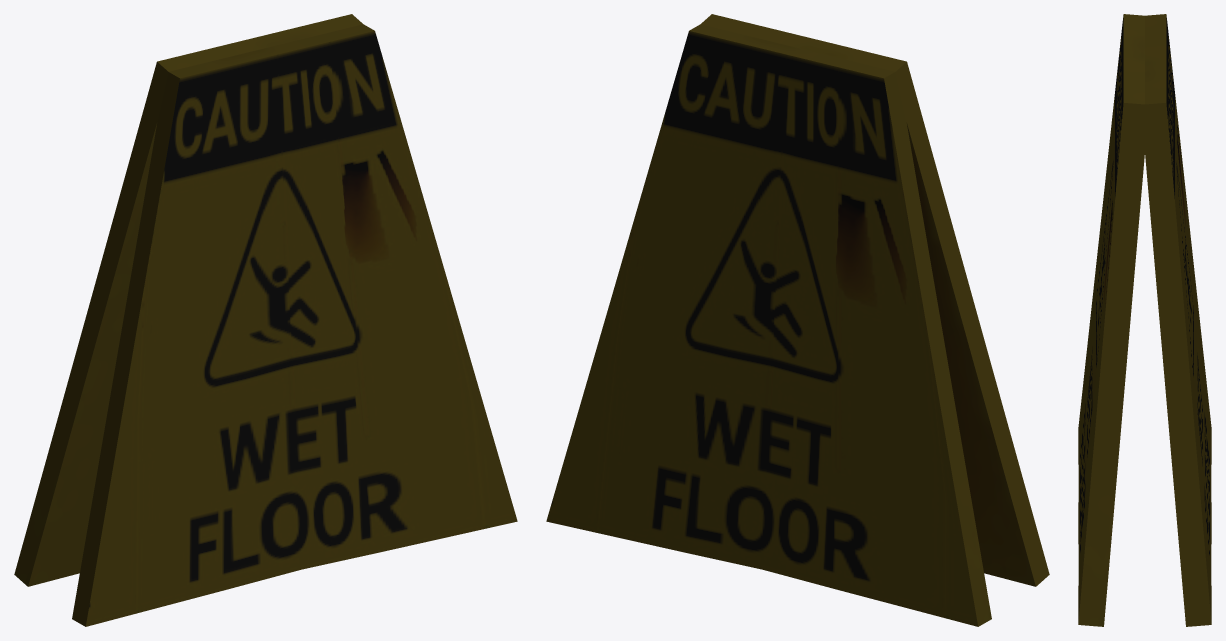
File: wetfloor.fbx
3 views of the same model, side by side, from view 1: azimuth 30°, elevation 25°; view 2: azimuth 150°, elevation 25°; view 3: azimuth 270°, elevation 25° (orthographic). The views are drawn at different scales.
Parts seen in each view (by area): view 1: Cube; view 2: Cube; view 3: Cube.
Part boxes in pixels (x1=…): Cube: x1=14, y1=14, x2=517, y2=626; Cube: x1=546, y1=14, x2=1049, y2=626; Cube: x1=1078, y1=14, x2=1211, y2=626.
Bounding box in the file's own units: 91.6 × 102 × 26.24.
Materials: 1 (1 with a texture image).
